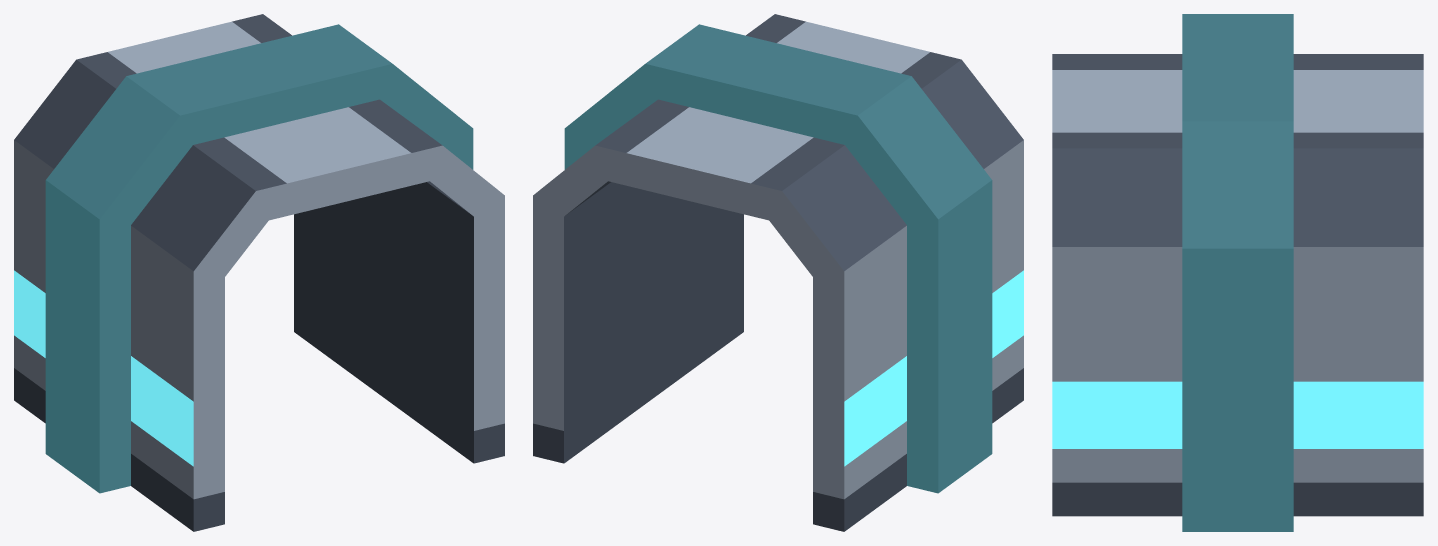
File: corridor_detailed.glb
3 views of the same model, side by side, from view 1: azimuth 30°, elevation 25°; view 2: azimuth 150°, elevation 25°; view 3: azimuth 270°, elevation 25° (orthographic). The views are drawn at different scales.
Visible parts, largest first — view 1: corridor_detailed; view 2: corridor_detailed; view 3: corridor_detailed.
Part boxes in pixels (box(x1,y1,x2,y2)): corridor_detailed: box(14, 14, 504, 531); corridor_detailed: box(533, 14, 1023, 531); corridor_detailed: box(1052, 14, 1423, 531).
Bounding box in the file's own units: 1.2 × 1.1 × 1.
